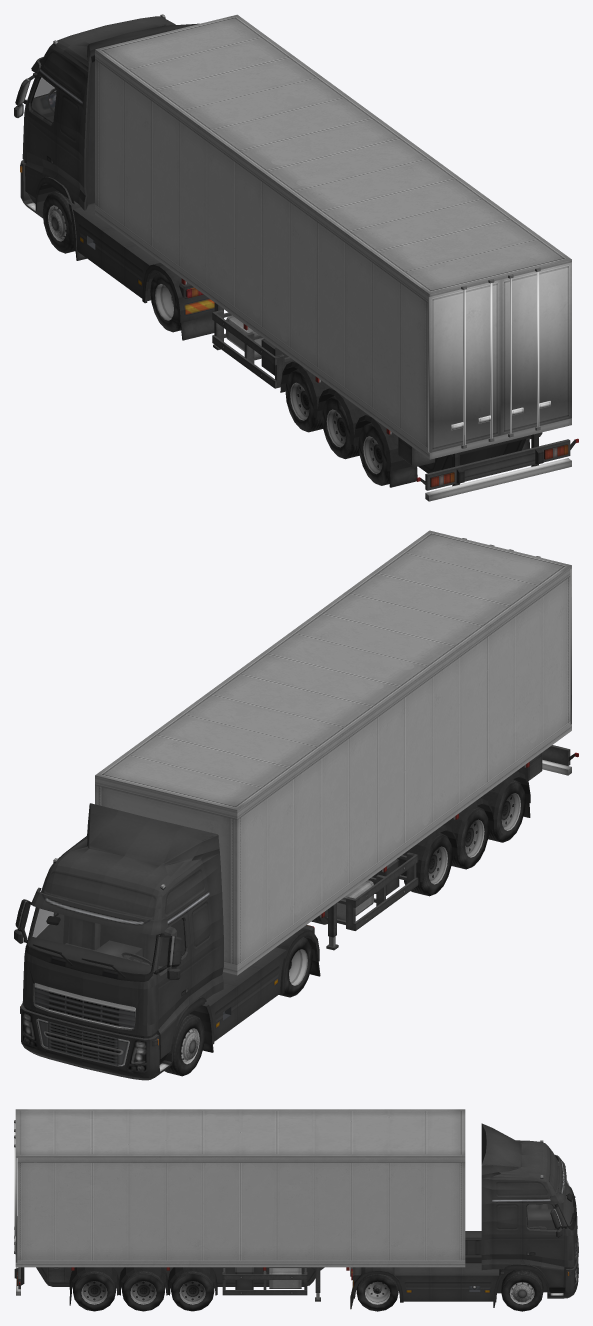
Rendered from 大货车.glb.
The picture shows the model from 3 angles, top to bottom: view 1: azimuth 30°, elevation 25°; view 2: azimuth 150°, elevation 25°; view 3: azimuth 270°, elevation 25°; orthographic projection. The views are drawn at different scales.
Parts seen in each view (by area): view 1: BigTruck0102Trailer_BigTruck0102_0, BigTruck0101Main_BigTruck0101_0, BigTruck0102DoorL_BigTruck0102_0, BigTruck0102DoorR_BigTruck0102_0, WheelFL1_BigTruck0101_0, WheelBL010_BigTruck0102_0, WheelBL009_BigTruck0102_0, WheelBL3_BigTruck0102_0, WheelFL2_BigTruck0101_0, BigTruck0101Main_BigTruck0101Alpha_0; view 2: BigTruck0102Trailer_BigTruck0102_0, BigTruck0101Main_BigTruck0101_0, BigTruck0101Main_BigTruck0101Alpha_0, WheelFL1_BigTruck0101_0, WheelBL009_BigTruck0102_0, WheelBL010_BigTruck0102_0, WheelBL3_BigTruck0102_0, WheelFL2_BigTruck0101_0; view 3: BigTruck0102Trailer_BigTruck0102_0, BigTruck0101Main_BigTruck0101_0, WheelFR1_BigTruck0101_0, WheelBR009_BigTruck0102_0, WheelBR010_BigTruck0102_0, WheelBR3_BigTruck0102_0, WheelFR2_BigTruck0101_0, BigTruck0101Main_BigTruck0101Alpha_0, BigTruck0102DoorR_BigTruck0102_0.
Part boxes in pixels (<box>): BigTruck0102Trailer_BigTruck0102_0: <box>95,14,578,501</box>; BigTruck0101Main_BigTruck0101_0: <box>14,14,214,340</box>; BigTruck0102DoorL_BigTruck0102_0: <box>428,279,500,452</box>; BigTruck0102DoorR_BigTruck0102_0: <box>500,262,571,435</box>; WheelFL1_BigTruck0101_0: <box>42,191,74,253</box>; WheelBL010_BigTruck0102_0: <box>322,396,359,459</box>; WheelBL009_BigTruck0102_0: <box>285,369,322,432</box>; WheelBL3_BigTruck0102_0: <box>358,423,389,485</box>; WheelFL2_BigTruck0101_0: <box>150,272,180,332</box>; BigTruck0101Main_BigTruck0101Alpha_0: <box>32,77,56,121</box>; BigTruck0102Trailer_BigTruck0102_0: <box>95,530,578,975</box>; BigTruck0101Main_BigTruck0101_0: <box>14,803,320,1080</box>; BigTruck0101Main_BigTruck0101Alpha_0: <box>29,908,184,974</box>; WheelFL1_BigTruck0101_0: <box>164,1014,204,1076</box>; WheelBL009_BigTruck0102_0: <box>404,833,452,896</box>; WheelBL010_BigTruck0102_0: <box>451,806,489,869</box>; WheelBL3_BigTruck0102_0: <box>488,779,525,842</box>; WheelFL2_BigTruck0101_0: <box>279,937,312,997</box>; BigTruck0102Trailer_BigTruck0102_0: <box>14,1109,465,1305</box>; BigTruck0101Main_BigTruck0101_0: <box>350,1123,578,1309</box>; WheelFR1_BigTruck0101_0: <box>501,1270,543,1311</box>; WheelBR009_BigTruck0102_0: <box>171,1271,214,1311</box>; WheelBR010_BigTruck0102_0: <box>122,1271,164,1311</box>; WheelBR3_BigTruck0102_0: <box>73,1271,115,1311</box>; WheelFR2_BigTruck0101_0: <box>356,1274,398,1311</box>; BigTruck0101Main_BigTruck0101Alpha_0: <box>527,1180,573,1229</box>; BigTruck0102DoorR_BigTruck0102_0: <box>14,1138,16,1262</box>.
Size of the model in its own units: 2.84 by 3.84 by 12.47.
Materials: 3 (3 with a texture image).
